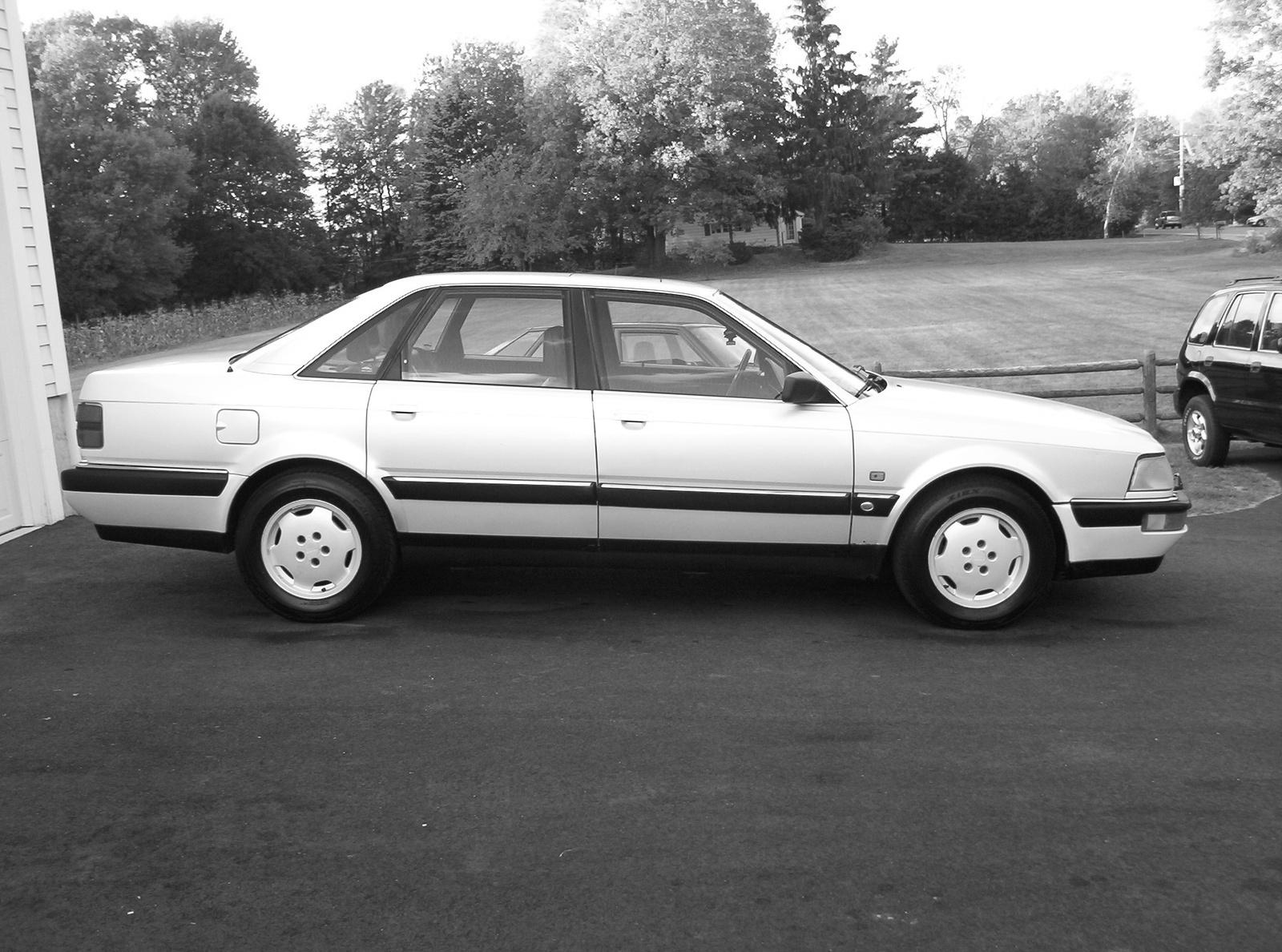car: (60, 269, 1191, 630)
